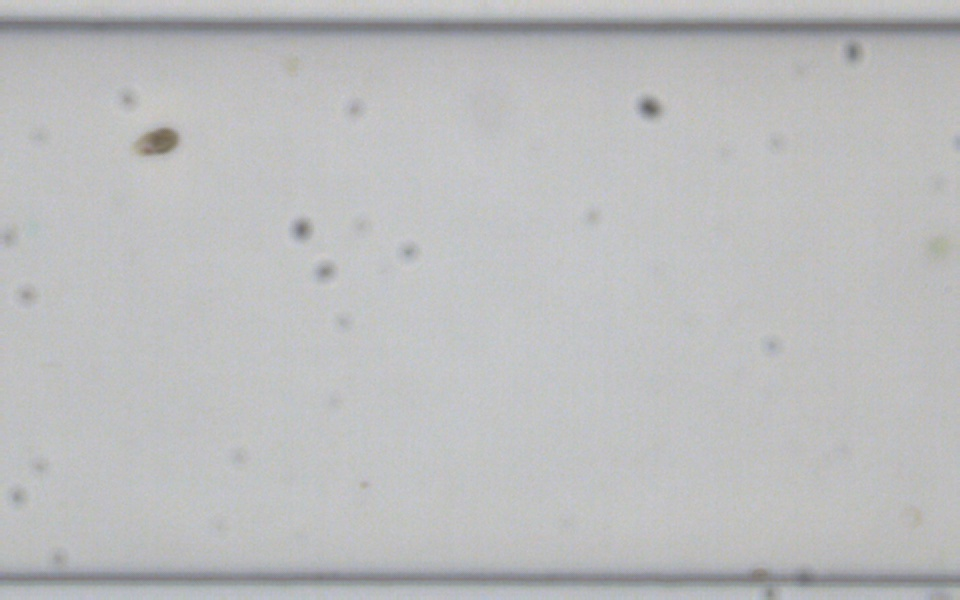Dunaliella salina: (133, 123, 181, 157)
